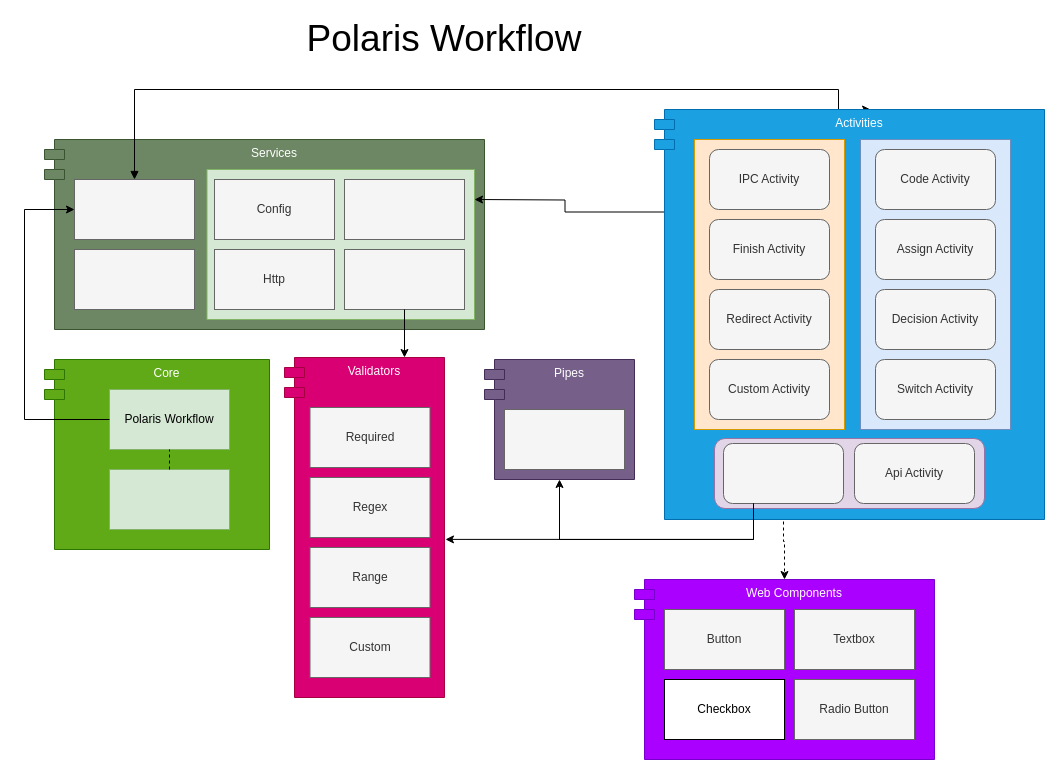
Some shapes in this 1062 by 777 pixel diagram are drawn without their labels. The centre of each missing label's shape, as x and y in pixels:
"Analytics" belongs at point 134,279.
"Currency Formater" belongs at point 564,439.
"Model" belongs at point 404,209.
"Page Activity" belongs at point 783,473.
"Polaris Analytics" belongs at point 169,499.
"Validator" belongs at point 404,279.
"Workflow" belongs at point 134,209.
